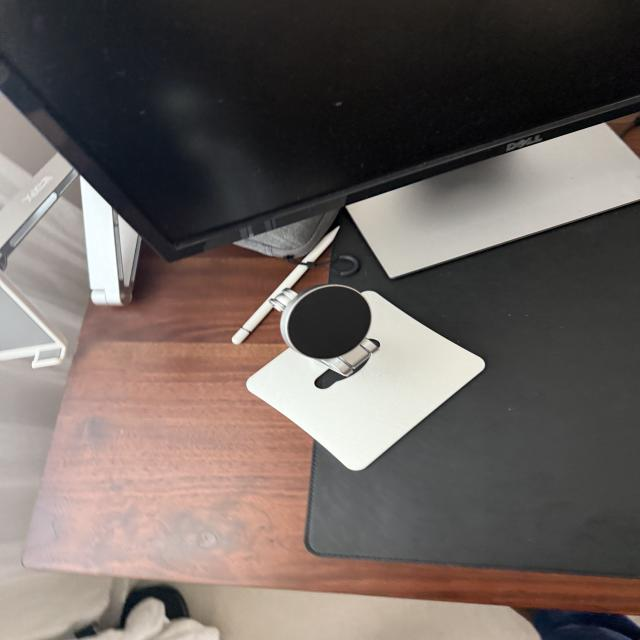phone holder: (221, 273, 510, 479)
